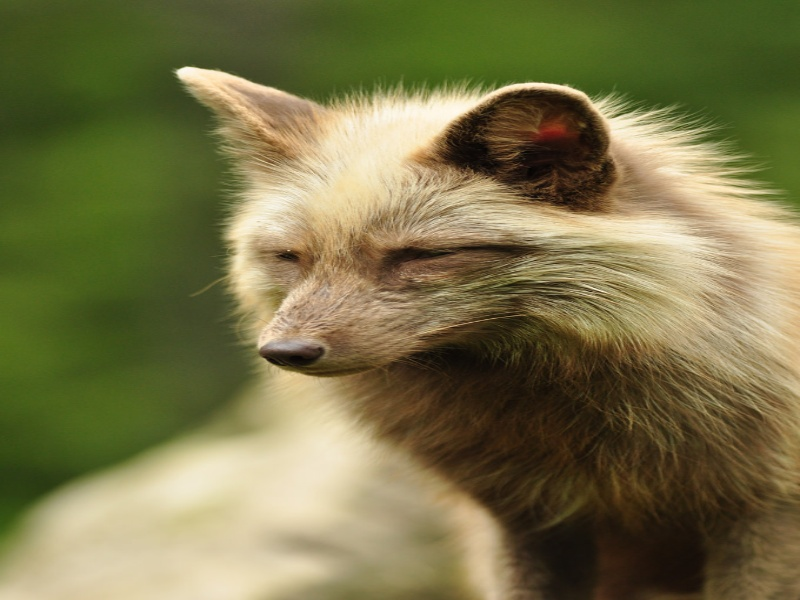fox: (167, 55, 800, 599)
